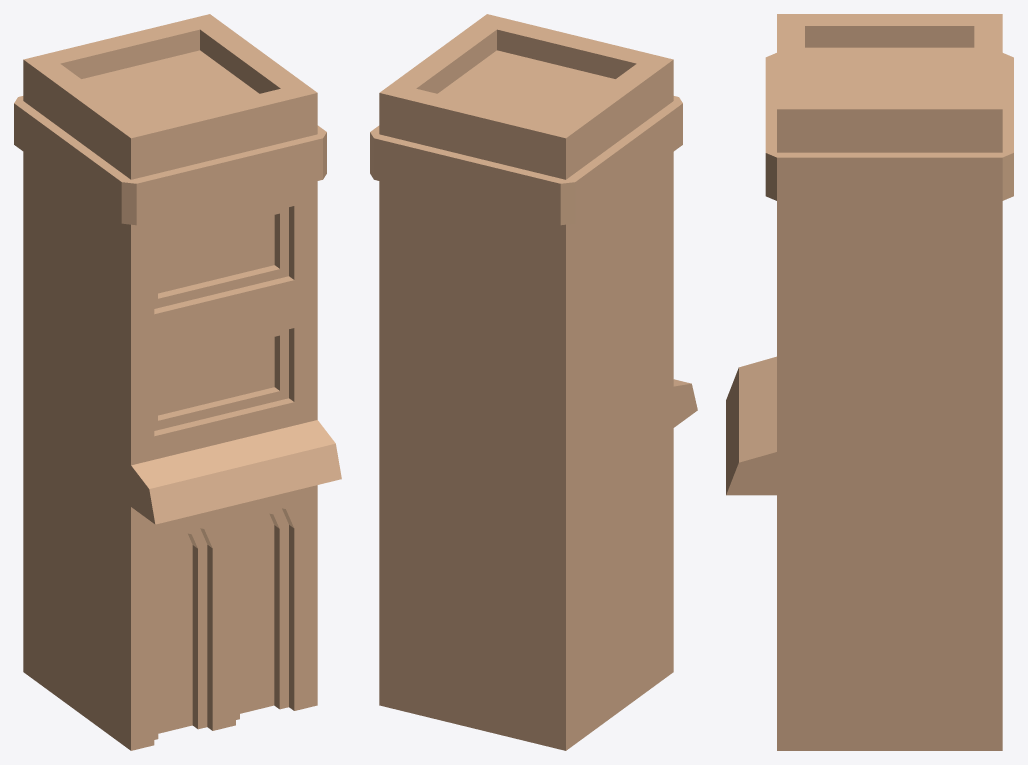
Rendered from building-sample-tower-c.obj.
3 renders of one model, left to right at view 1: azimuth 30°, elevation 25°; view 2: azimuth 150°, elevation 25°; view 3: azimuth 270°, elevation 25°, orthographic. The views are drawn at different scales.
Size of the model in its own units: 1.1 by 3.14 by 1.28.
